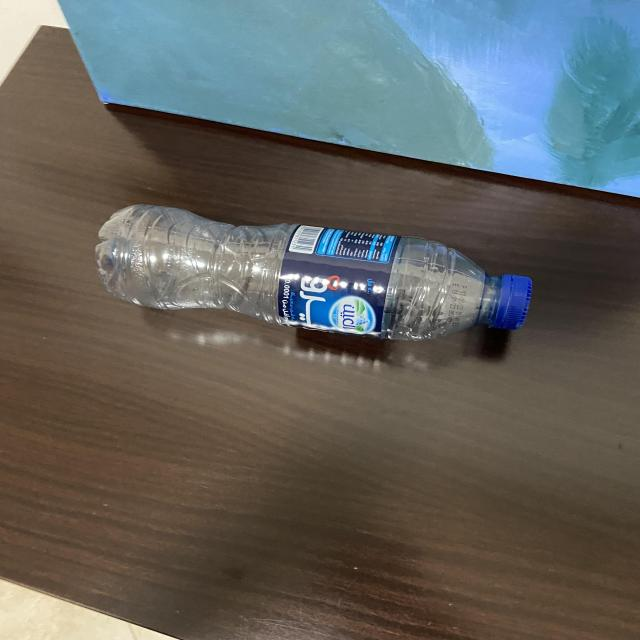bottle: (92, 198, 540, 356)
